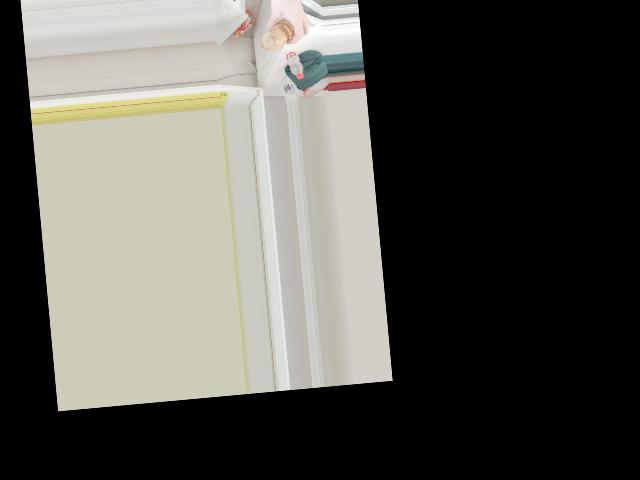sweet_potato: (260, 19, 293, 53)
